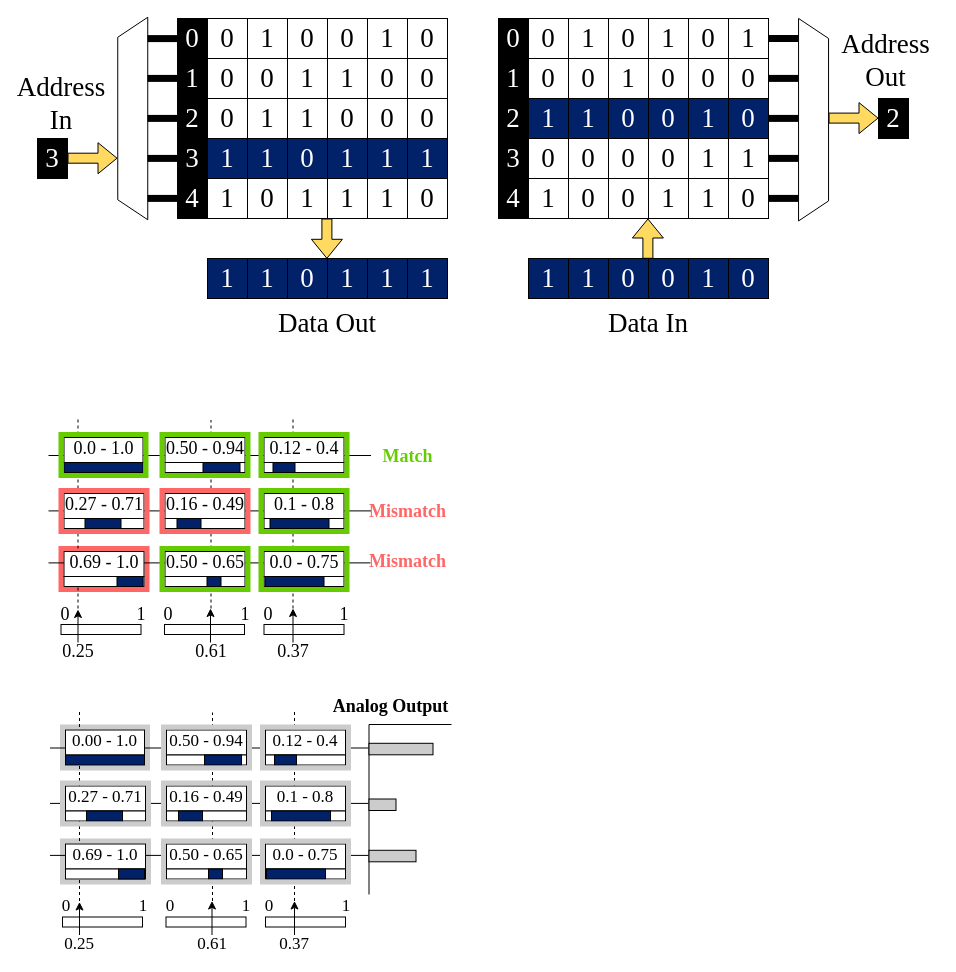
This 956x972 diagram has some shape labels left out. The centre of each missing label's shape, as x and y in pixels:
"DECODER" belongs at (x=132, y=118).
"ENCODER" belongs at (x=813, y=119).
